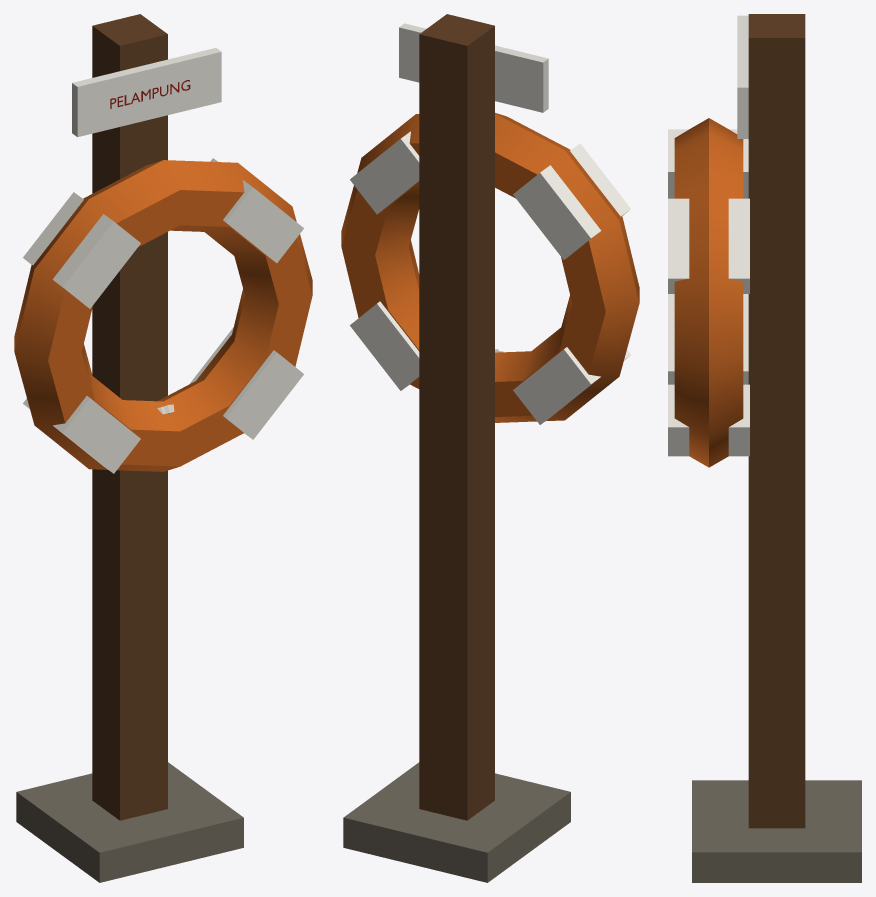
File: lifering_stand.glb
3 views of the same model, side by side, from view 1: azimuth 30°, elevation 25°; view 2: azimuth 150°, elevation 25°; view 3: azimuth 270°, elevation 25° (orthographic). The views are drawn at different scales.
Visible parts, largest first — view 1: LifeRing; view 2: LifeRing; view 3: LifeRing.
Part boxes in pixels (x1,y1,x2,y2): LifeRing: (14, 14, 312, 882); LifeRing: (341, 14, 639, 882); LifeRing: (668, 14, 861, 882).
Bounding box in the file's own units: 0.62 × 1.6 × 0.3425.
